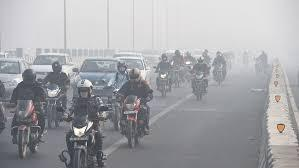helmet: (76, 79, 93, 98), (21, 68, 37, 87), (129, 68, 141, 84), (116, 60, 128, 75), (51, 61, 62, 76), (161, 52, 168, 64), (197, 56, 205, 65)
